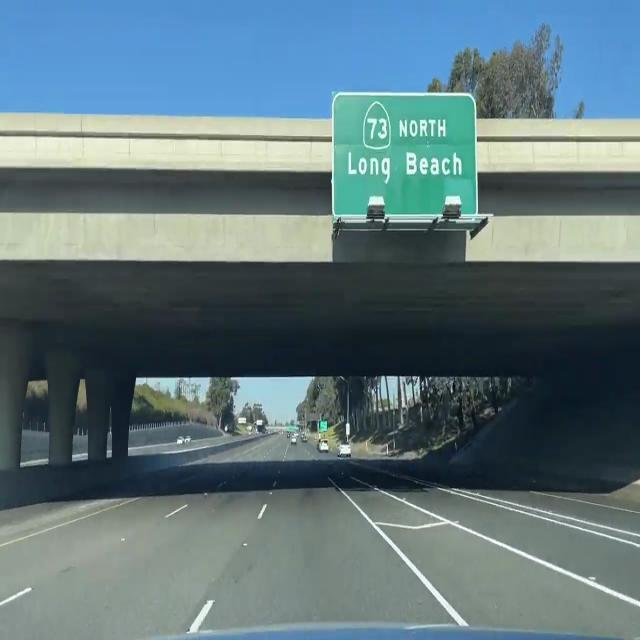street-signs: (333, 92, 477, 220), (320, 421, 328, 432)
